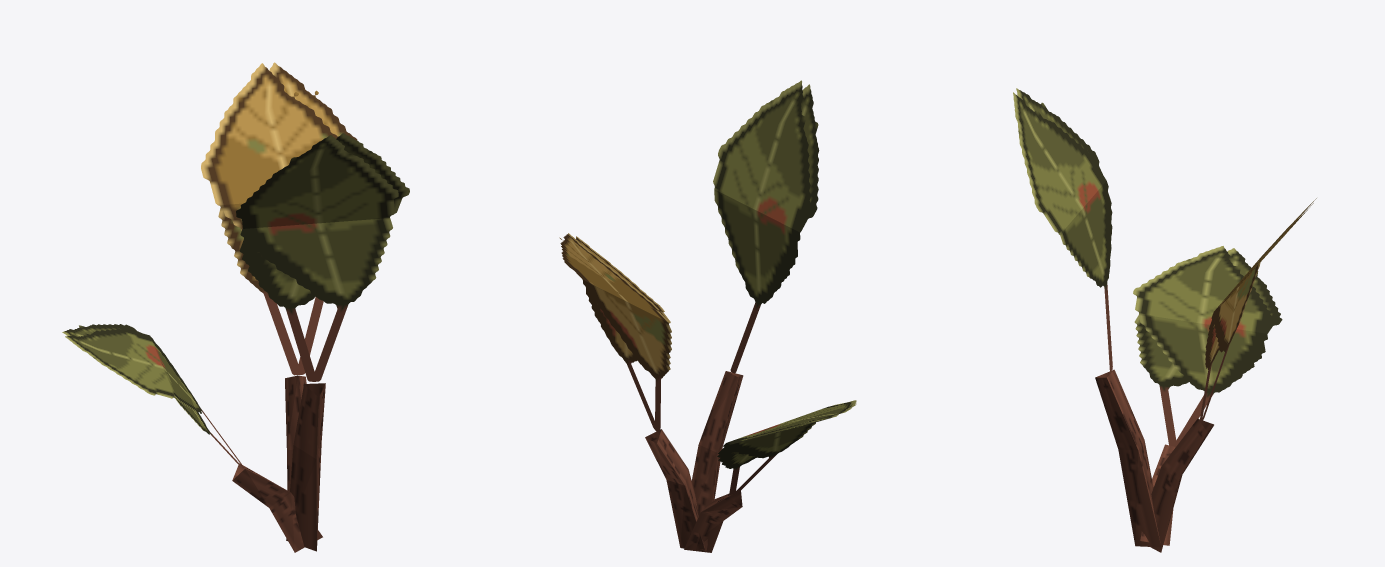
The model's file is SM_VG12_BroadLeavesTall.fbx.
3 renders of one model, left to right at view 1: azimuth 30°, elevation 25°; view 2: azimuth 150°, elevation 25°; view 3: azimuth 270°, elevation 25°, orthographic. The views are drawn at different scales.
Visible parts, largest first — view 1: VG12_Leaves; view 2: VG12_Leaves; view 3: VG12_Leaves.
Boxes of the visible parts, bbox=[...] form: VG12_Leaves: bbox=[62, 62, 409, 552]; VG12_Leaves: bbox=[559, 80, 856, 552]; VG12_Leaves: bbox=[1013, 88, 1316, 552].
Size of the model in its own units: 0.6861 by 0.8202 by 0.6465.
